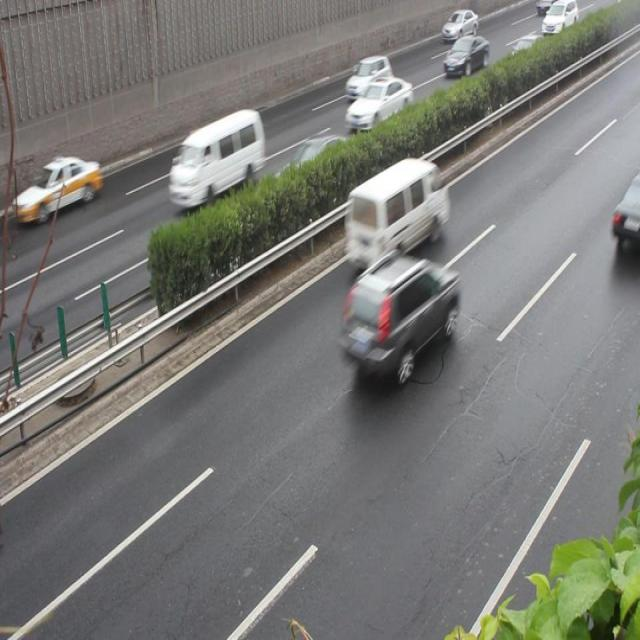car: (340, 252, 458, 381), (19, 153, 99, 219), (275, 137, 351, 200), (344, 77, 411, 129), (608, 179, 639, 255)
